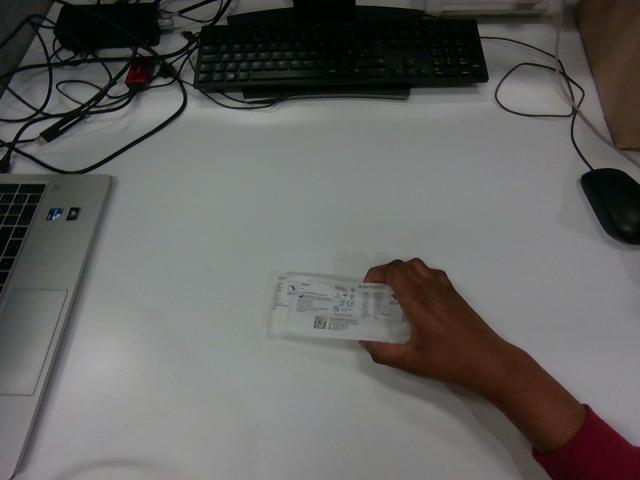syringe: (269, 275, 409, 342)
